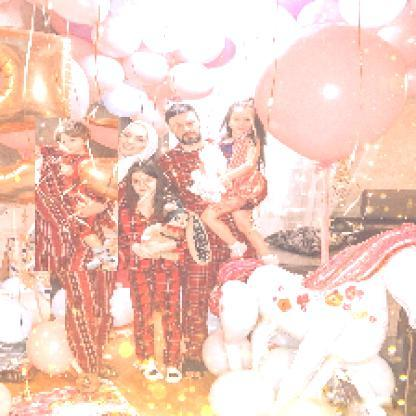child: (201, 99, 283, 266), (36, 119, 120, 273)
